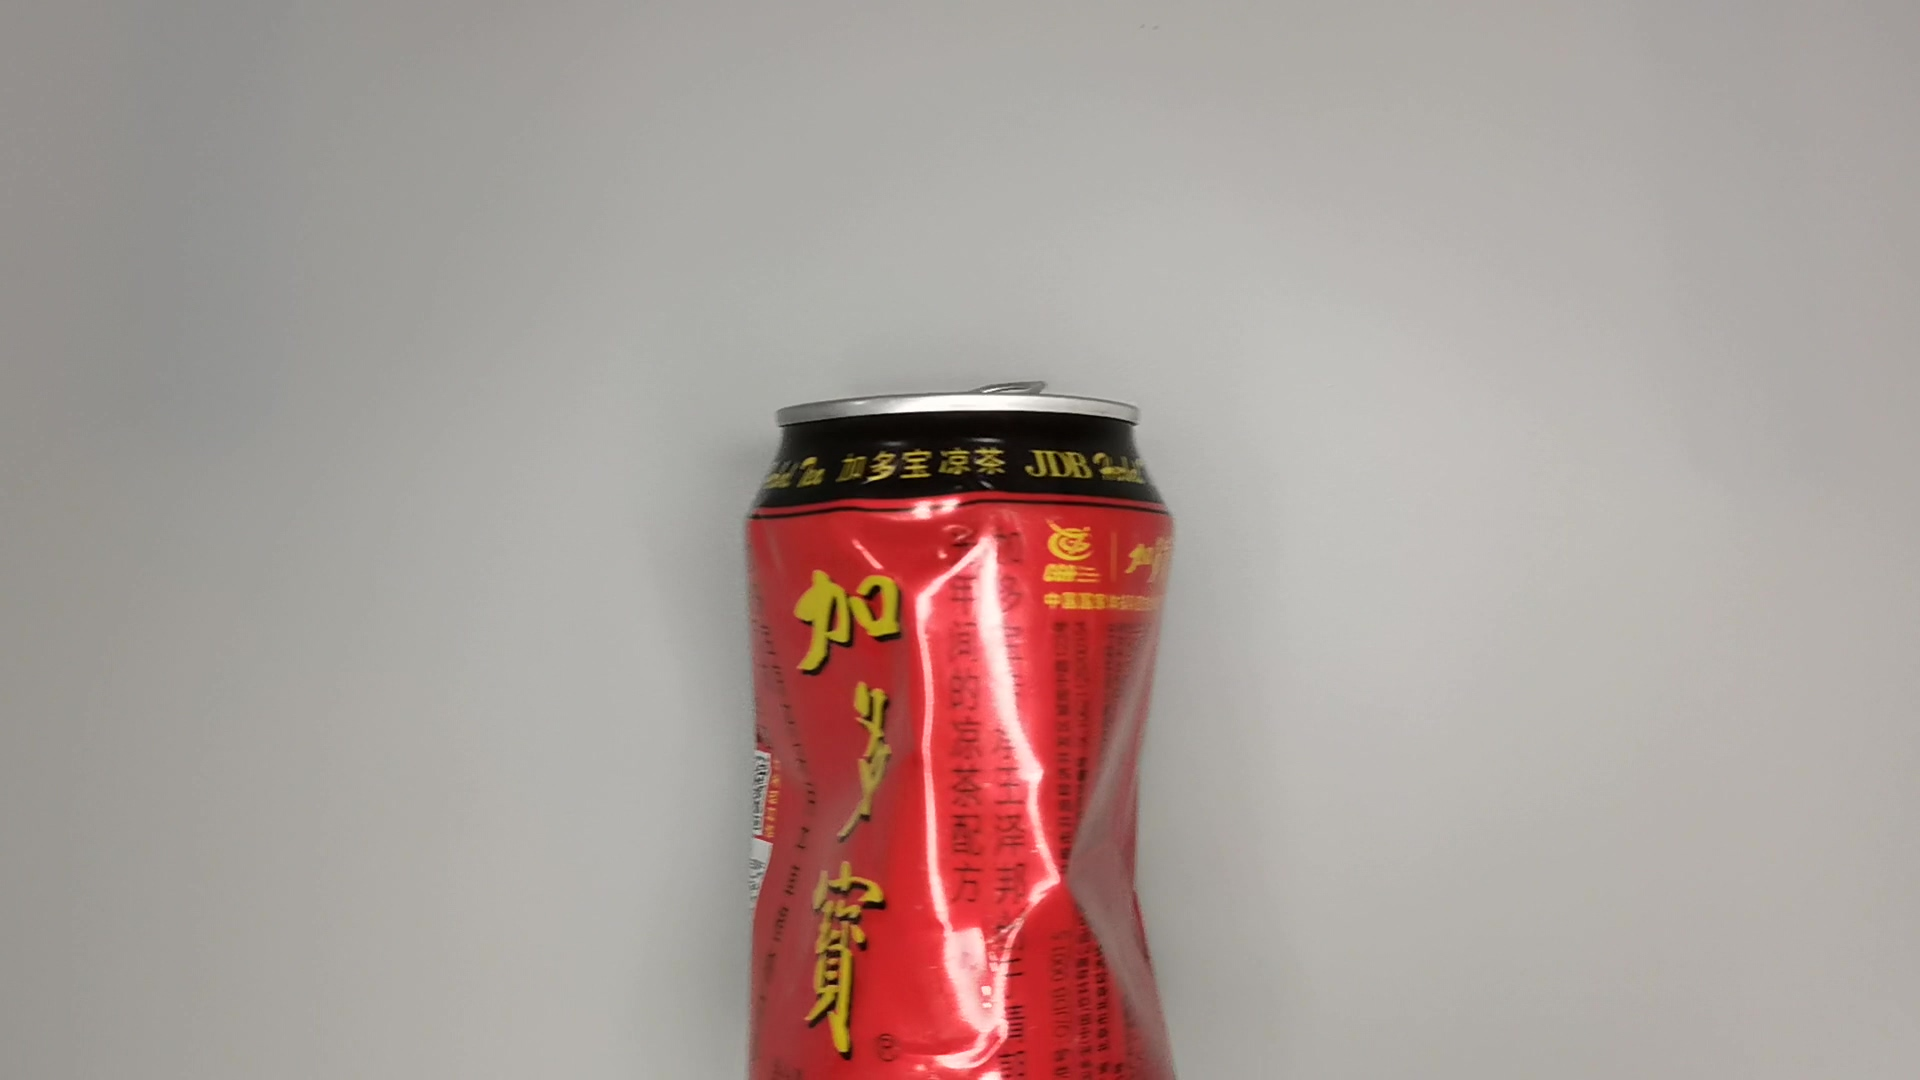can: (741, 376, 1193, 1080)
